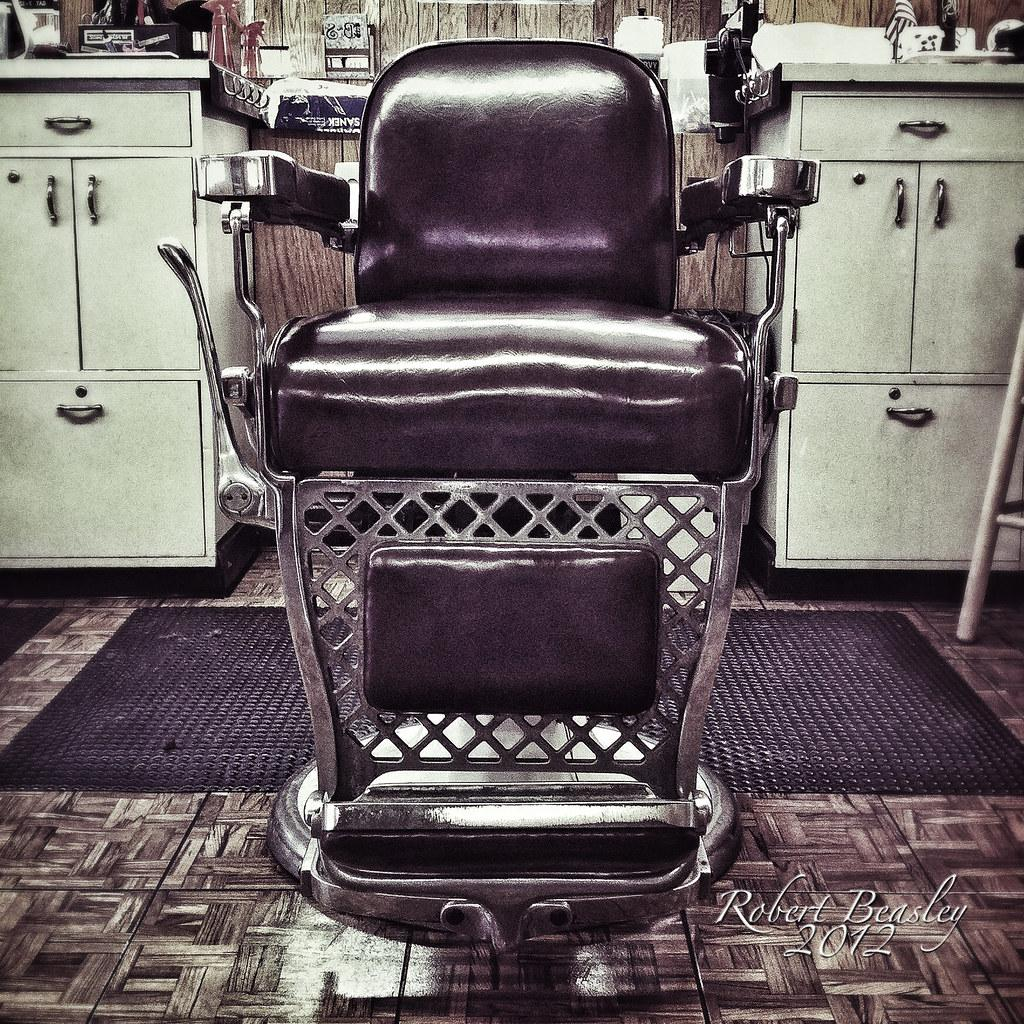chair: (158, 38, 821, 955)
